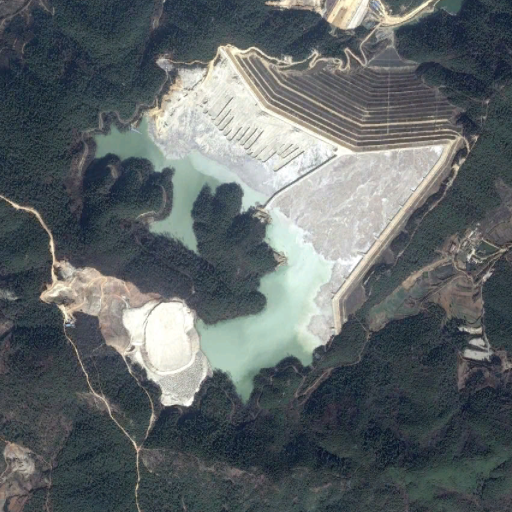tp: (93, 42, 472, 404)
